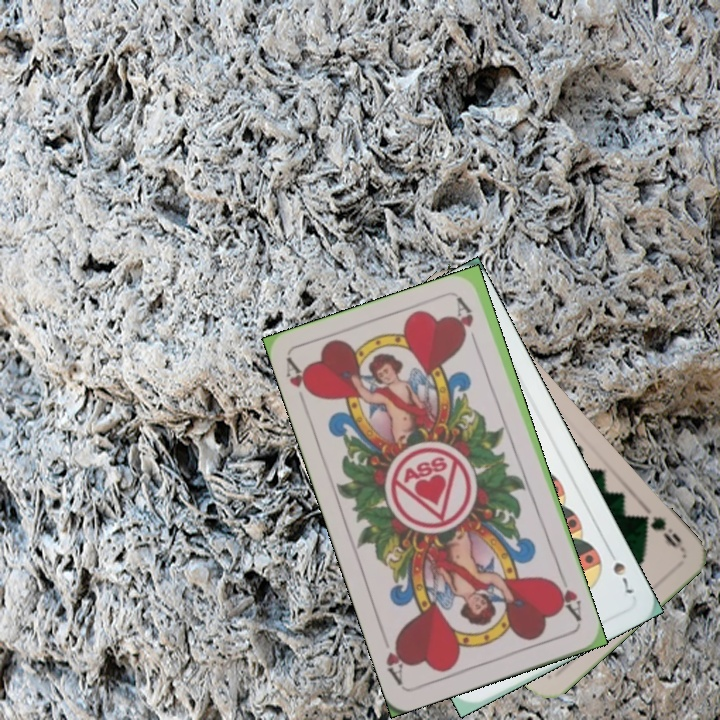G9: (635, 511, 687, 553)
HA: (548, 569, 584, 624), (282, 355, 318, 400)
S7: (603, 543, 636, 596)
